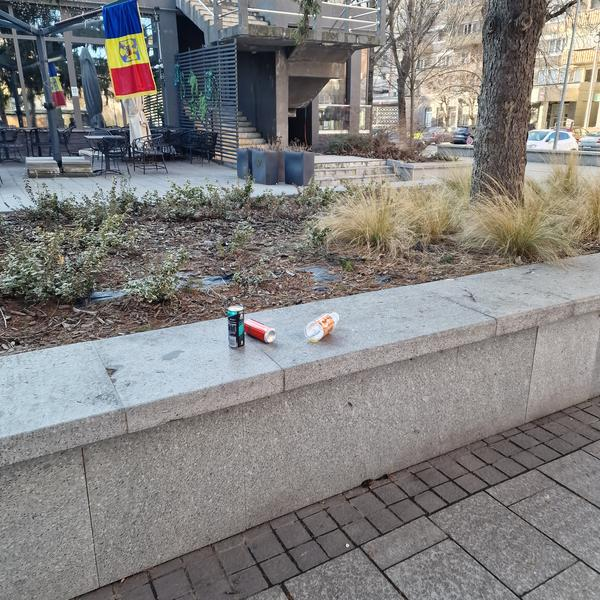can: (242, 315, 280, 346), (228, 306, 243, 348)
plastic_bottle: (301, 306, 344, 345)
